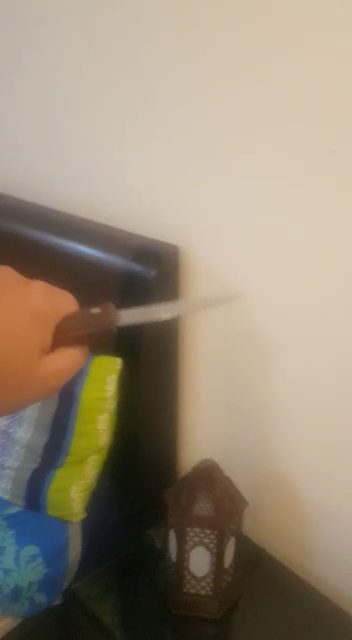knife: (7, 247, 277, 404)
